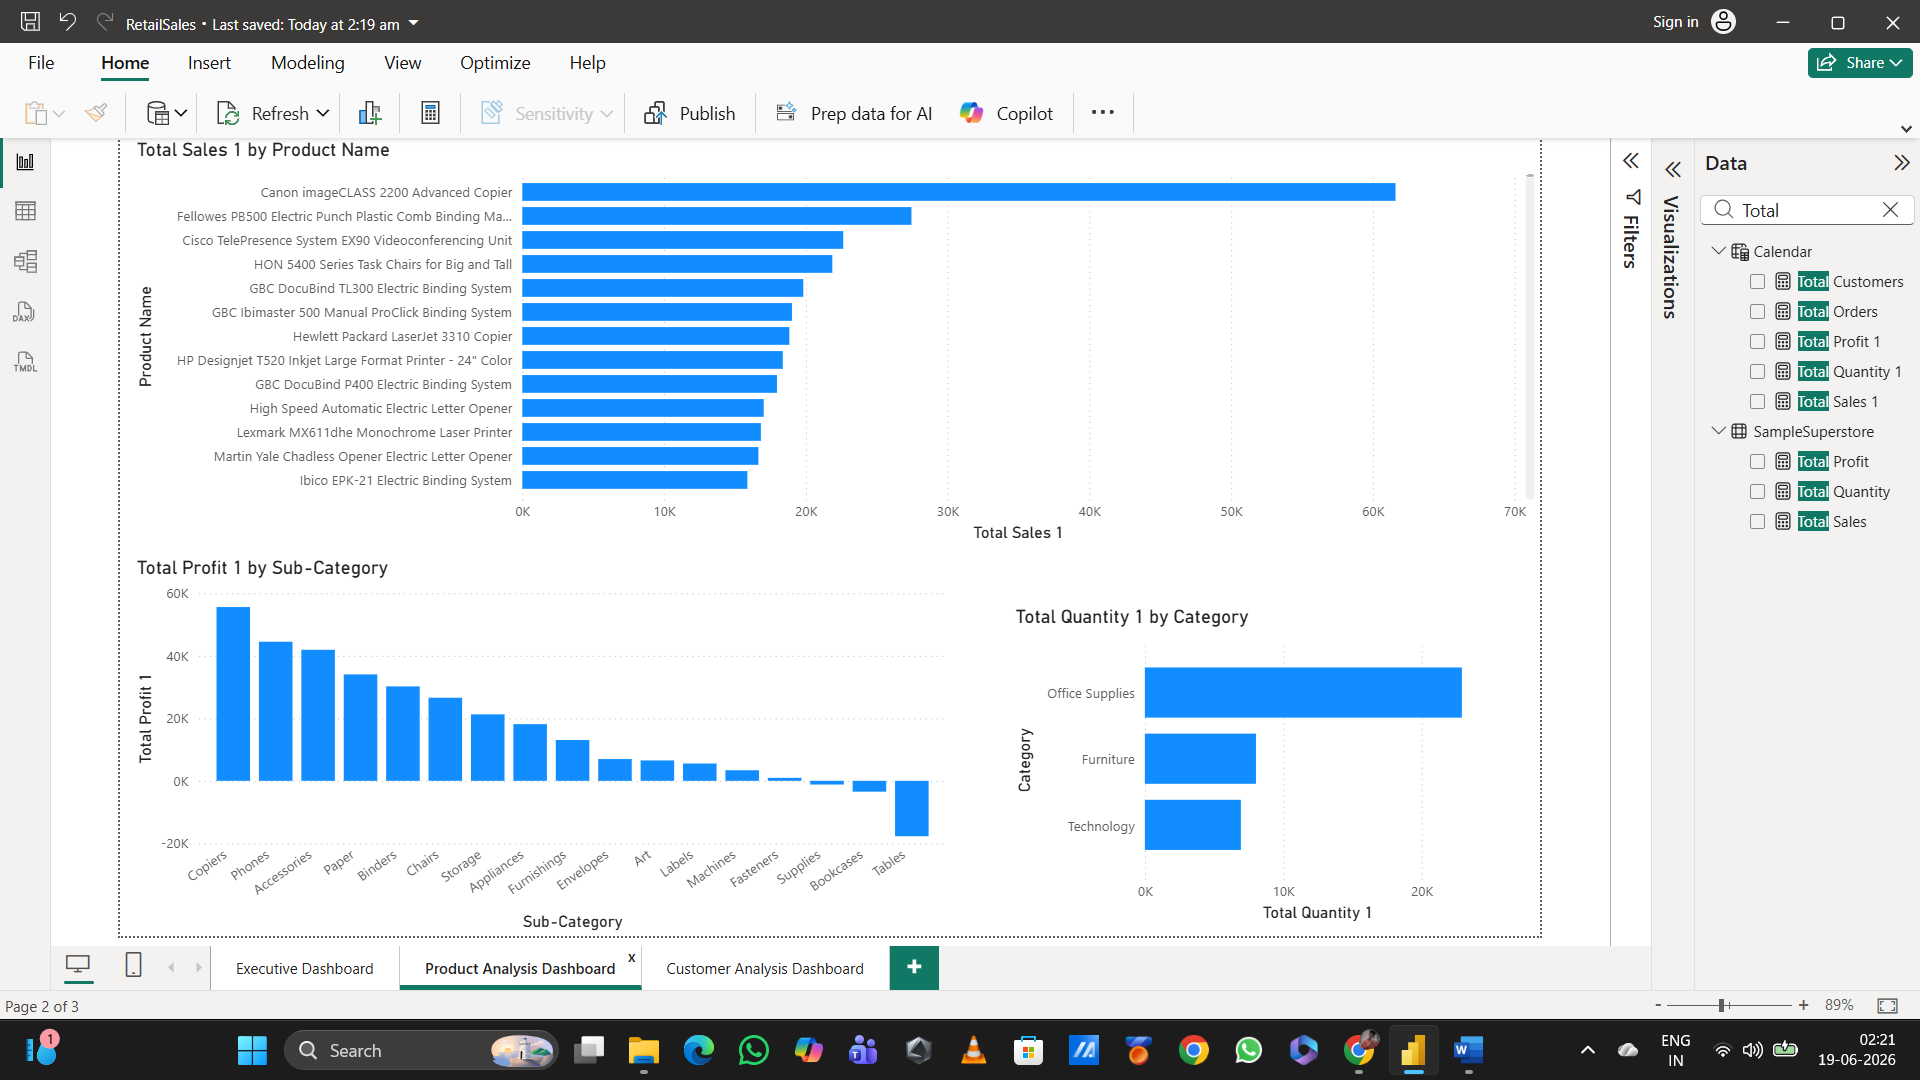

The page's visual inventory and layout, read from the dashboard file:
{"tool":"powerbi","page":{"name":"Product Analysis Dashboard","canvas":[1280,720],"ordinal":1},"visuals":[{"type":"barChart","fields":{"Category":["SampleSuperstore.Product Name"],"Y":["Calendar.Total Sales 1"]},"box":[9.8,0,1270.5,369.3],"z":0},{"type":"clusteredColumnChart","fields":{"Category":["SampleSuperstore.Sub-Category"],"Y":["Calendar.Total Profit 1"]},"box":[9.8,377.9,739.8,342.4],"z":1000},{"type":"barChart","fields":{"Category":["SampleSuperstore.Category"],"Y":["Calendar.Total Quantity 1"]},"box":[802.2,421.9,448.8,289.8],"z":2000}]}

Visuals, with their boxes on the page's 1280x720 design canvas (x1, y1, x2, y2). These are canvas units, not pixel positions in the 1920x1080 screenshot, which may show the page scaled, cropped or inside an application window:
barChart - SampleSuperstore.Product Name x Calendar.Total Sales 1: bbox(10, 0, 1280, 369)
clusteredColumnChart - SampleSuperstore.Sub-Category x Calendar.Total Profit 1: bbox(10, 378, 750, 720)
barChart - SampleSuperstore.Category x Calendar.Total Quantity 1: bbox(802, 422, 1251, 712)
